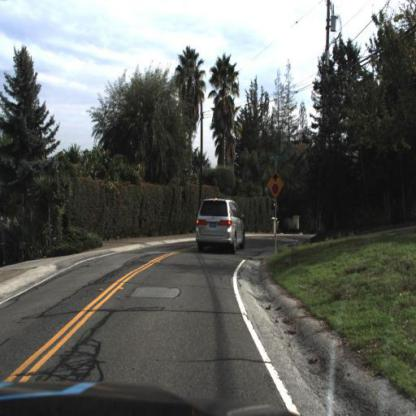car: (195, 196, 246, 261)
